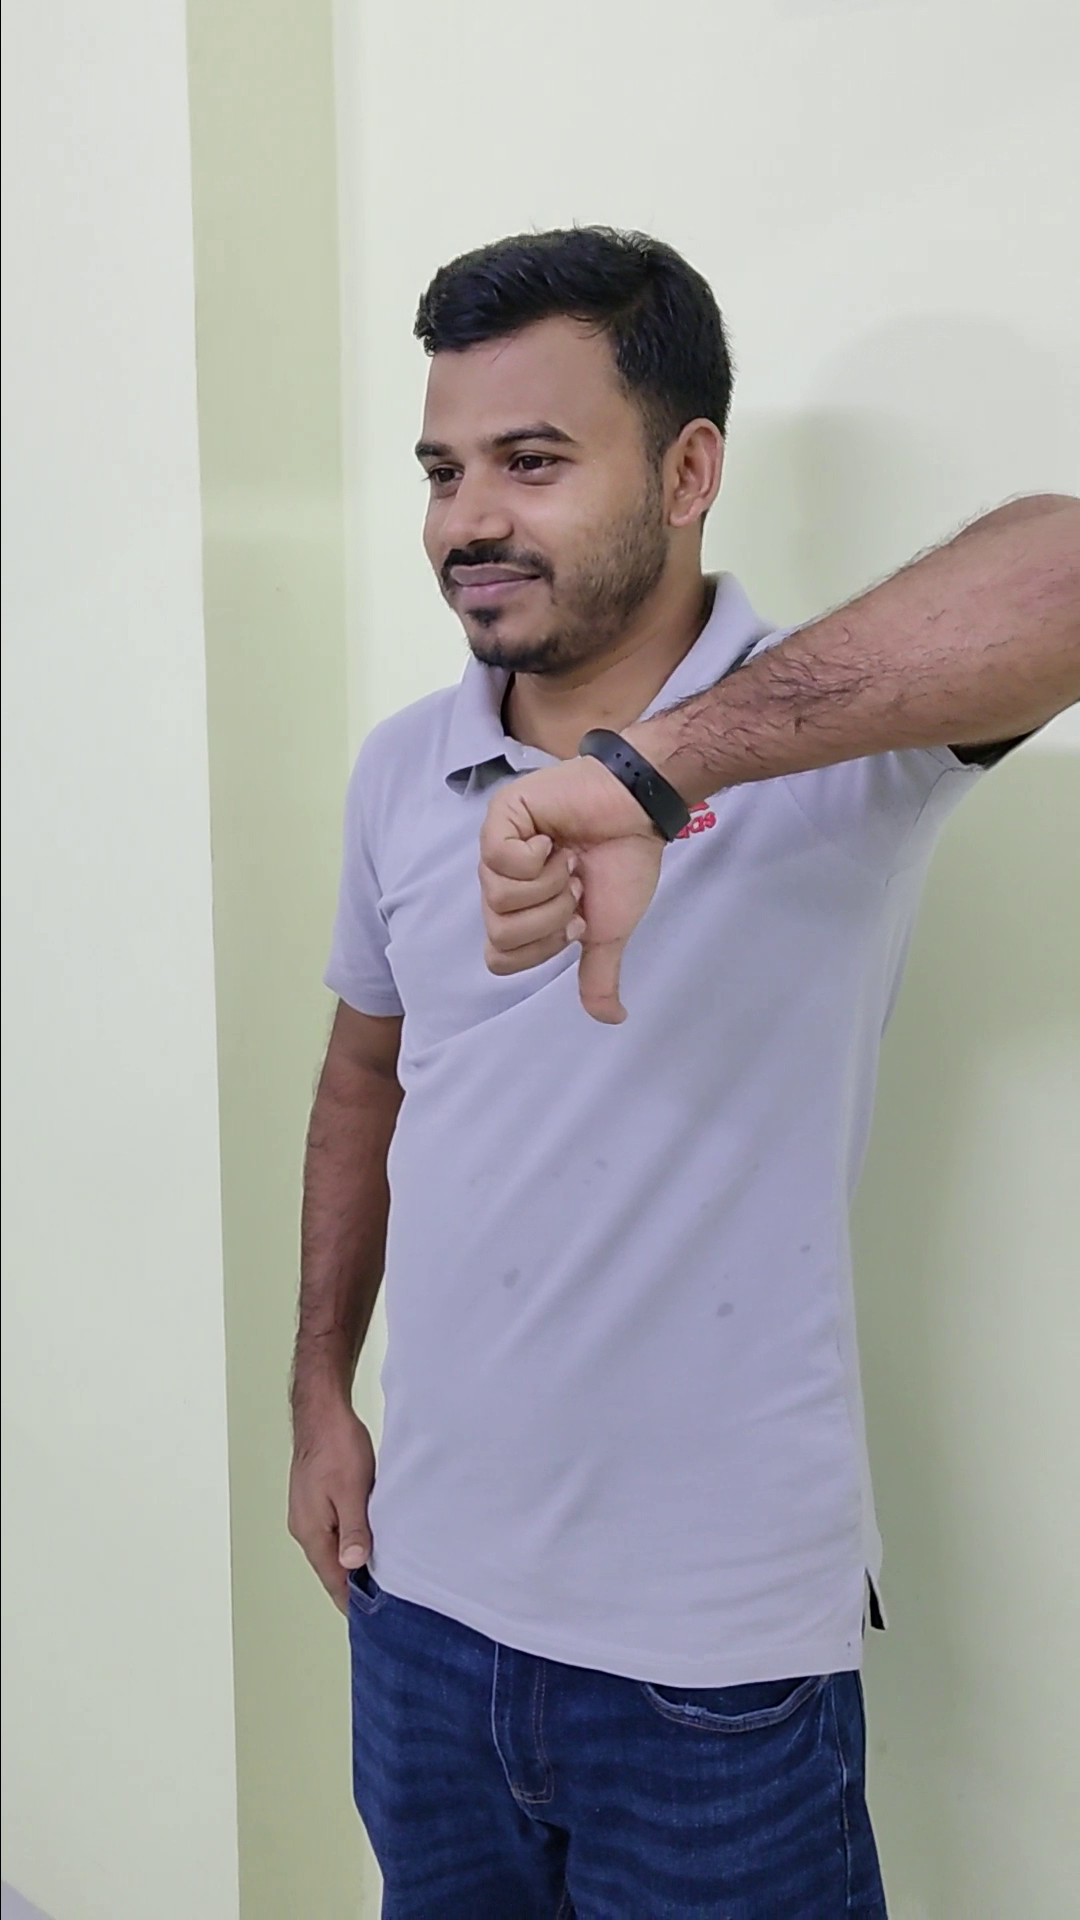Dislike: (454, 713, 683, 1039)
None: (258, 1348, 406, 1640)
